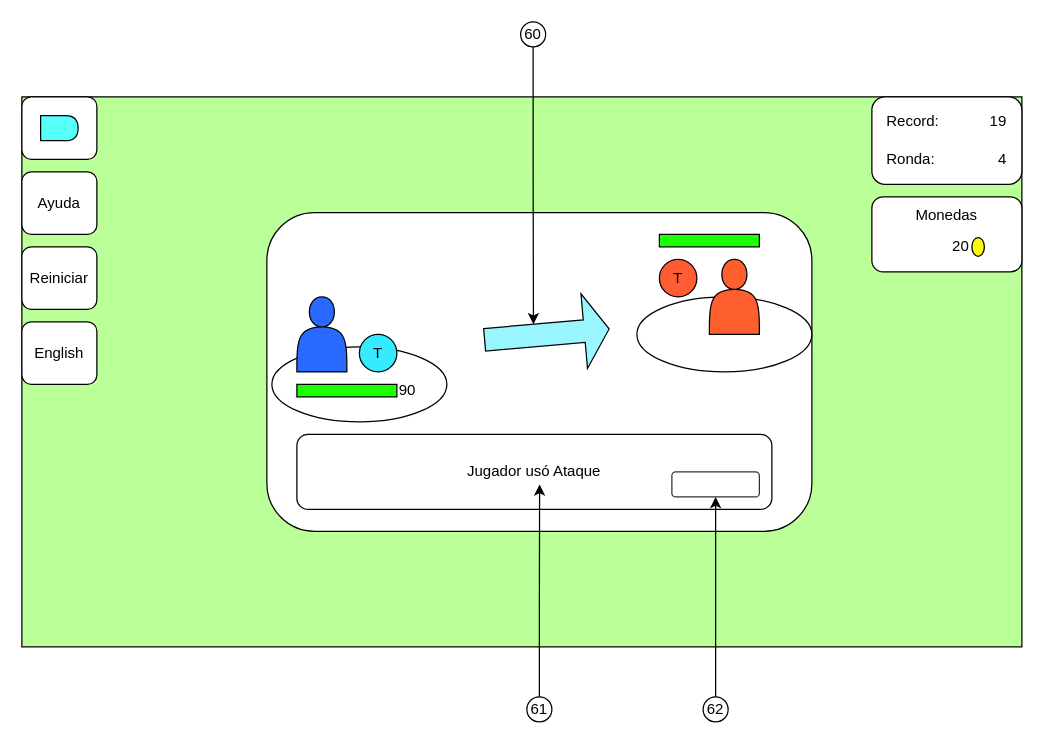
Image size: 1044x744. Some labels were removed from this diagram. Here are the shapes that lost their labels. From the top down, the centre of each, then its label:
At point 546,333: "Animación ataque".
At point 715,484: "Continuar".
